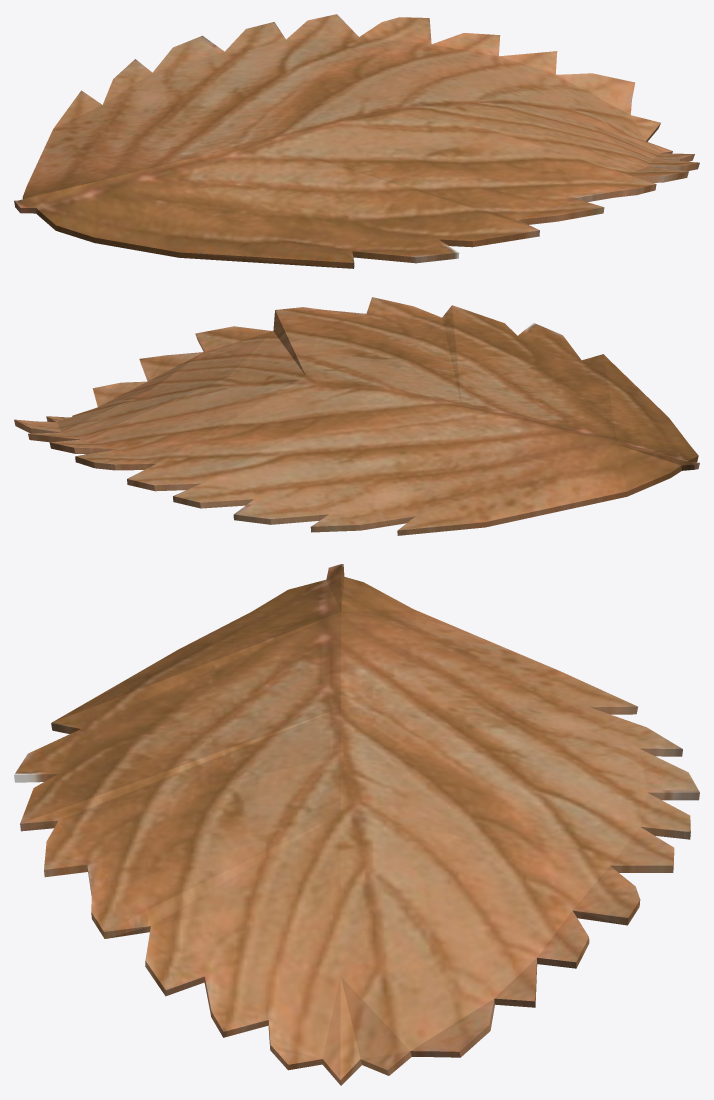
The model's file is leaf4_d2.dae.
The picture shows the model from 3 angles, top to bottom: view 1: azimuth 30°, elevation 25°; view 2: azimuth 150°, elevation 25°; view 3: azimuth 270°, elevation 25°; orthographic projection. The views are drawn at different scales.
Parts seen in each view (by area): view 1: Plane; view 2: Plane; view 3: Plane.
Boxes of the visible parts, box(x1,y1,x2,y2) form: Plane: box(14, 14, 699, 268); Plane: box(14, 297, 699, 535); Plane: box(14, 564, 699, 1085).
Size of the model in its own units: 0.1374 by 0.1018 by 0.0227.
Materials: 1 (1 with a texture image).
